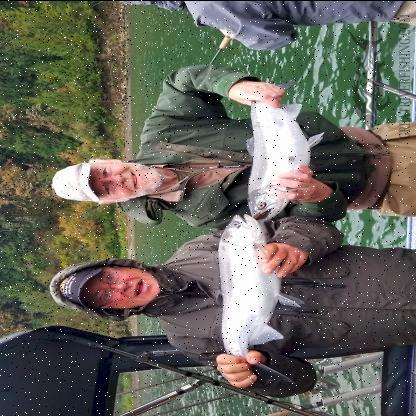fish: (218, 212, 306, 384), (244, 81, 326, 217)
